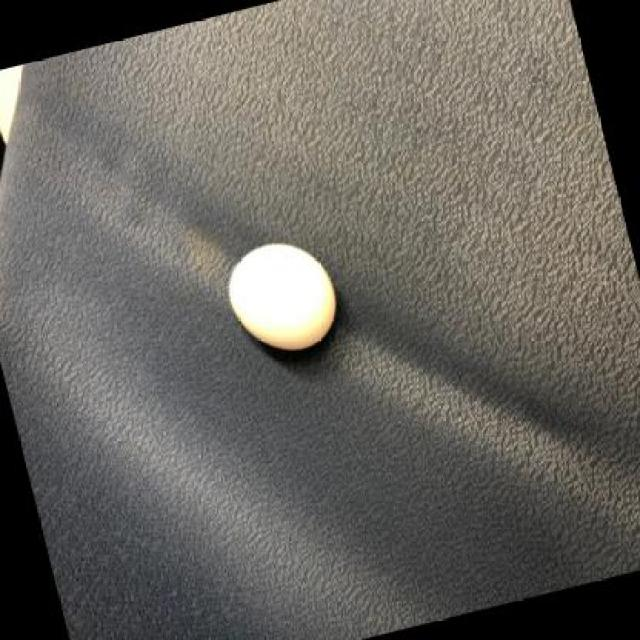egg: (218, 238, 342, 360)
